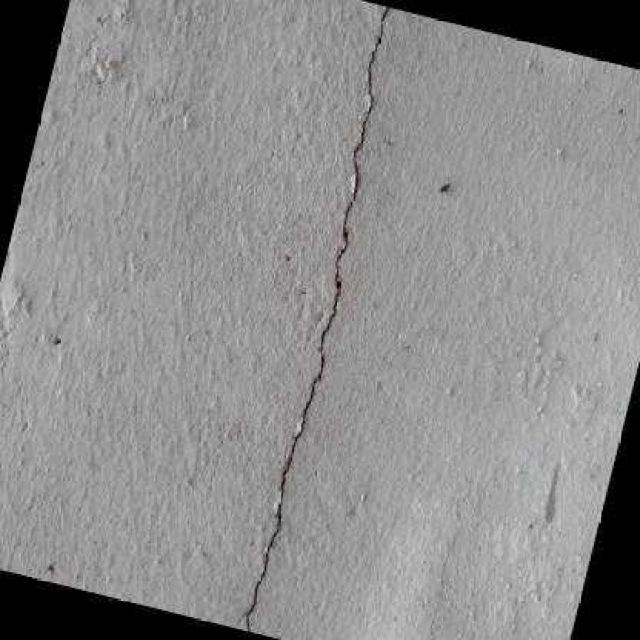D00: (246, 8, 390, 633)
